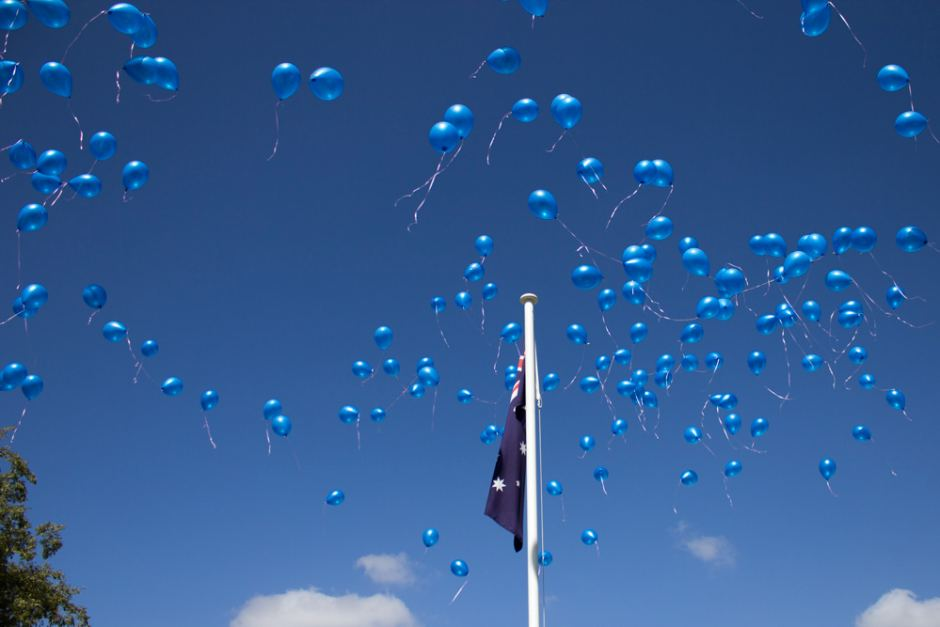Balloon: (145, 57, 180, 101), (309, 66, 344, 100), (799, 1, 832, 37), (38, 62, 71, 96), (427, 121, 459, 156), (271, 63, 300, 100), (31, 1, 70, 28), (105, 3, 140, 33), (876, 63, 911, 93), (445, 105, 473, 141), (485, 47, 521, 75), (526, 189, 559, 219), (894, 111, 929, 138), (16, 203, 47, 233), (895, 225, 927, 254), (123, 56, 156, 83), (121, 159, 148, 191), (681, 248, 710, 277), (846, 226, 876, 253), (571, 265, 603, 290), (89, 131, 116, 160), (555, 97, 581, 127), (10, 138, 36, 168), (67, 174, 100, 197), (1, 1, 27, 30), (36, 149, 66, 173), (511, 98, 539, 123), (81, 284, 108, 309), (22, 284, 48, 309), (783, 251, 808, 277), (633, 159, 657, 186), (101, 320, 128, 344), (623, 258, 652, 280), (651, 161, 674, 187), (646, 216, 672, 239), (695, 296, 719, 320), (580, 157, 603, 182), (804, 234, 827, 259), (22, 374, 44, 400), (722, 268, 744, 293), (825, 270, 851, 291), (623, 281, 645, 305), (776, 302, 798, 326), (833, 227, 852, 254), (3, 362, 26, 384), (679, 323, 703, 344), (159, 376, 184, 396), (565, 323, 587, 345), (763, 233, 785, 255), (885, 388, 906, 411), (746, 351, 766, 375), (372, 326, 393, 348), (597, 287, 616, 311), (755, 314, 776, 335), (836, 311, 863, 327), (500, 322, 521, 342), (199, 388, 219, 409), (885, 285, 904, 307), (724, 413, 742, 436), (800, 354, 824, 371), (819, 457, 836, 481), (652, 369, 672, 389), (336, 405, 358, 423), (475, 235, 493, 257), (630, 321, 648, 343), (419, 366, 439, 385), (683, 424, 703, 443), (724, 459, 743, 479), (750, 417, 769, 437), (802, 301, 820, 322), (450, 558, 469, 577), (422, 528, 441, 547), (272, 416, 291, 435), (847, 346, 867, 364), (351, 360, 371, 377), (577, 434, 595, 452), (463, 263, 481, 281), (853, 424, 871, 442), (325, 489, 344, 506), (704, 351, 721, 370), (679, 469, 698, 486), (264, 399, 281, 418), (579, 376, 599, 392), (717, 392, 737, 408), (454, 291, 471, 309), (542, 373, 559, 391), (611, 418, 628, 436), (681, 354, 698, 372), (141, 339, 159, 356), (858, 373, 877, 389), (631, 368, 648, 385), (580, 529, 598, 545), (545, 479, 563, 495), (640, 391, 658, 407), (613, 348, 631, 363), (593, 466, 609, 482), (430, 296, 447, 311), (617, 379, 633, 394), (456, 389, 473, 403), (482, 283, 496, 299), (596, 354, 610, 370), (370, 408, 384, 423), (539, 550, 552, 565), (487, 425, 499, 437)
